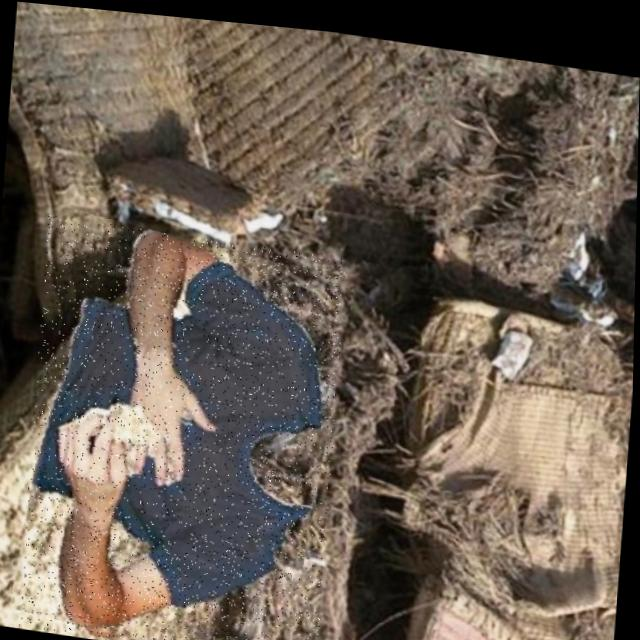Person in Rubble: (20, 212, 347, 640)
